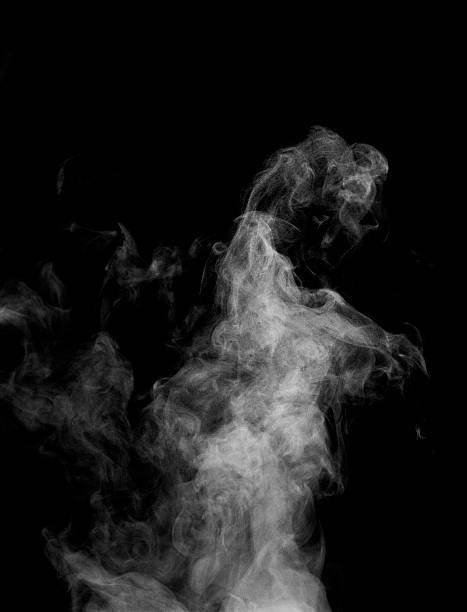smoke: (81, 164, 351, 612)
